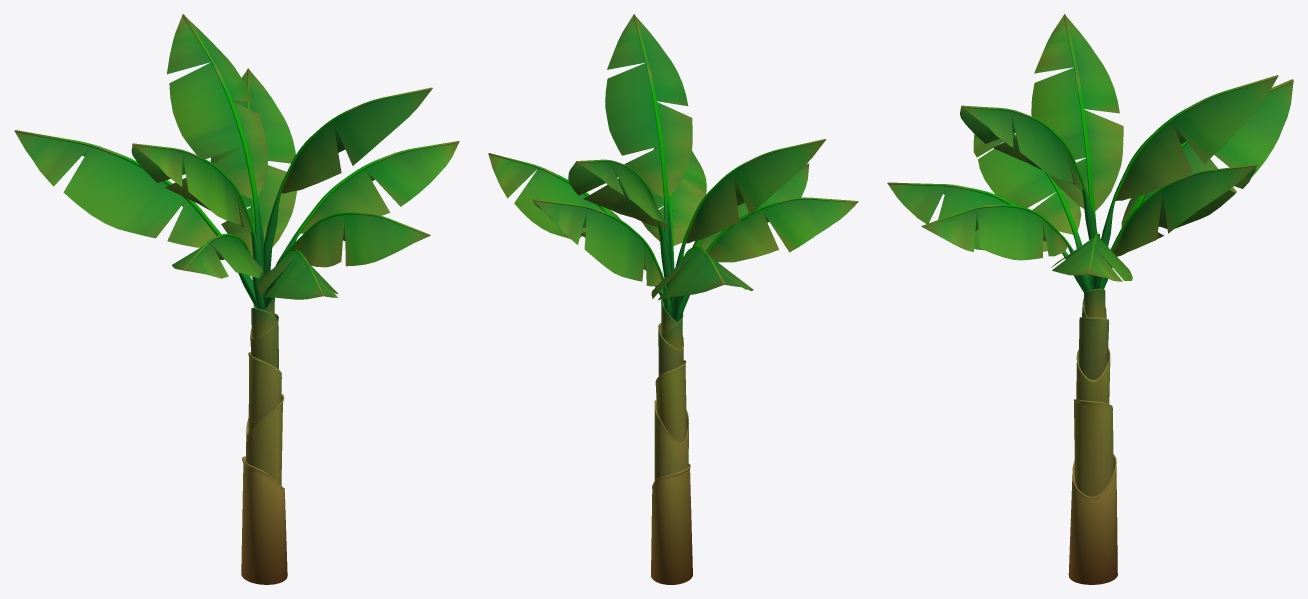
File: Plant.fbx
3 renders of one model, left to right at view 1: azimuth 30°, elevation 25°; view 2: azimuth 150°, elevation 25°; view 3: azimuth 270°, elevation 25°, orthographic. The views are drawn at different scales.
Visible parts, largest first — view 1: Plant; view 2: Plant; view 3: Plant.
Boxes of the visible parts, x1=… form: Plant: x1=14, y1=14, x2=459, y2=584; Plant: x1=488, y1=14, x2=858, y2=584; Plant: x1=887, y1=14, x2=1293, y2=584.
Size of the model in its own units: 155 by 218 by 154.
Materials: 1 (1 with a texture image).
